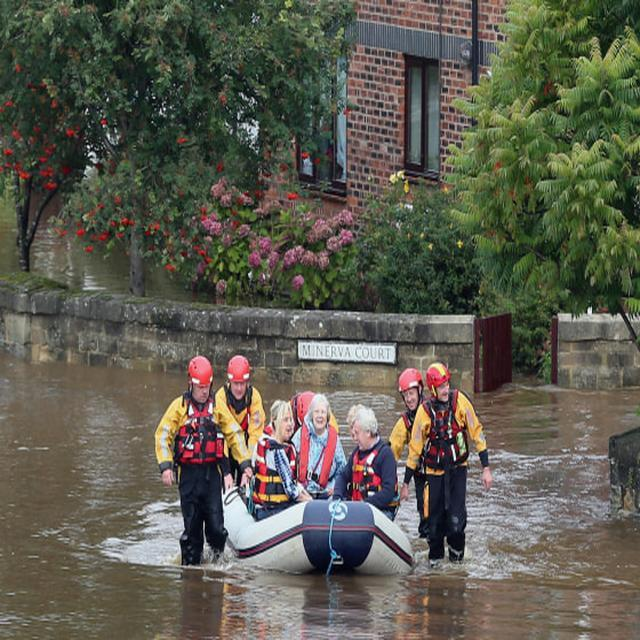Person-RiskLevel2: (155, 356, 241, 577), (425, 364, 489, 564), (204, 355, 272, 469), (390, 369, 426, 466)
Person-RiskLevel3: (248, 388, 399, 520)
